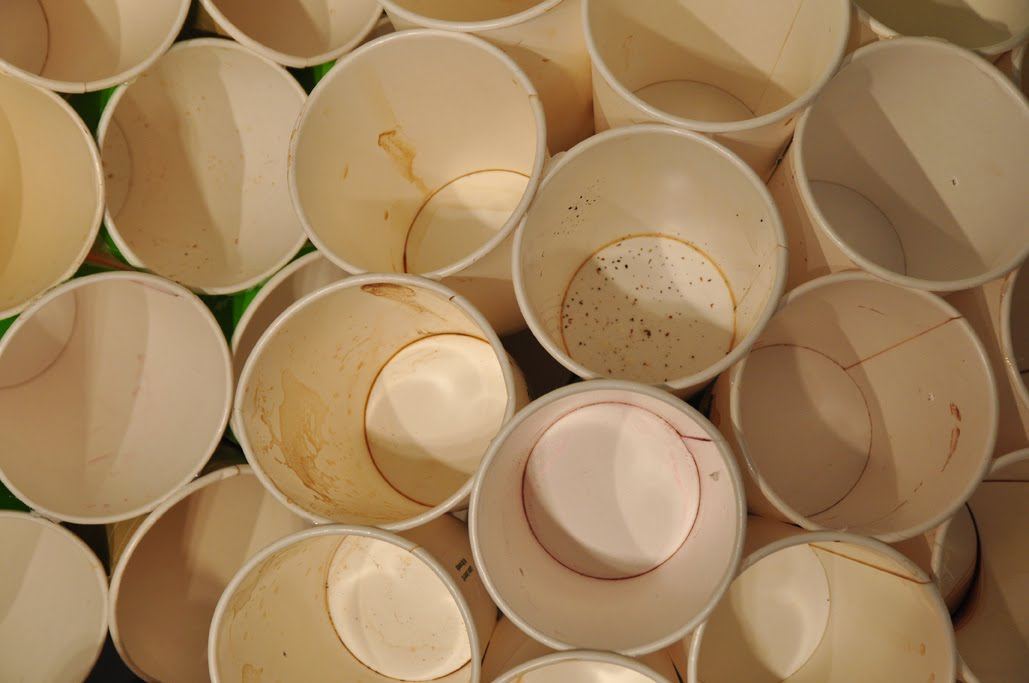cup: (490, 115, 821, 392), (460, 368, 764, 660), (724, 262, 1010, 550), (223, 271, 527, 529), (280, 16, 560, 296), (79, 32, 334, 305), (4, 261, 237, 541), (201, 517, 529, 682), (685, 524, 982, 683)
